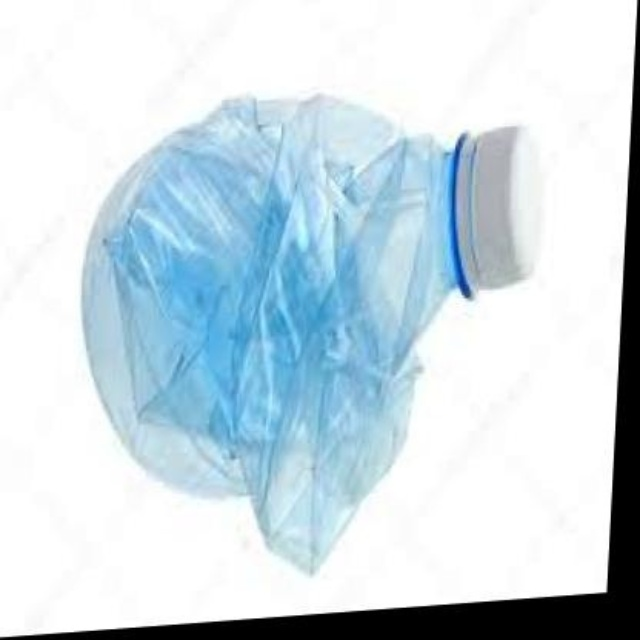trash: (83, 95, 534, 571)
